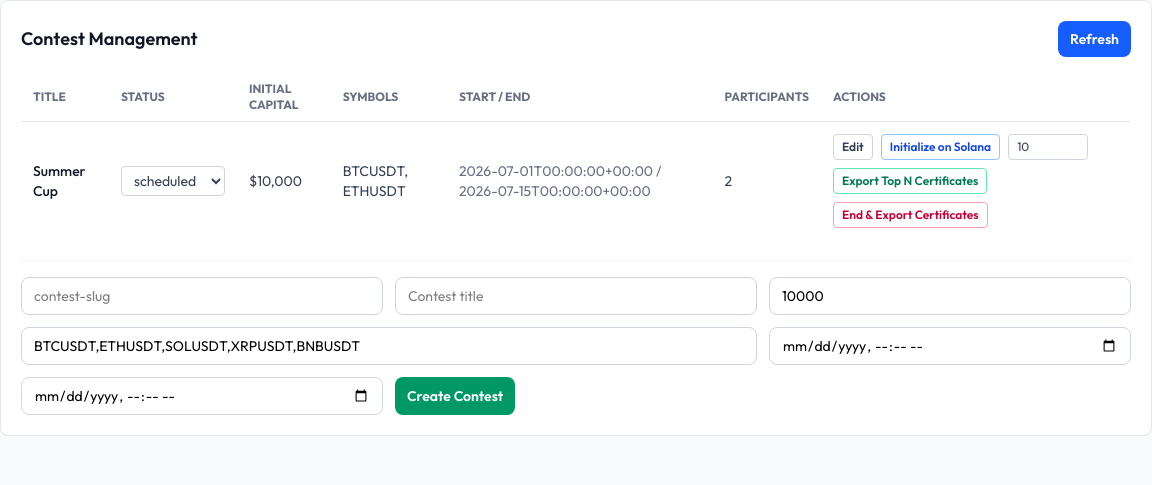
Test case: TabContests › requires an active signer before initializing a contest on Solana
The image size is (1152, 485).
Click the button with test id "initialize-onchain-summer-cup".
click(940, 147)  # box x1=881 y1=134 x2=1000 y2=160
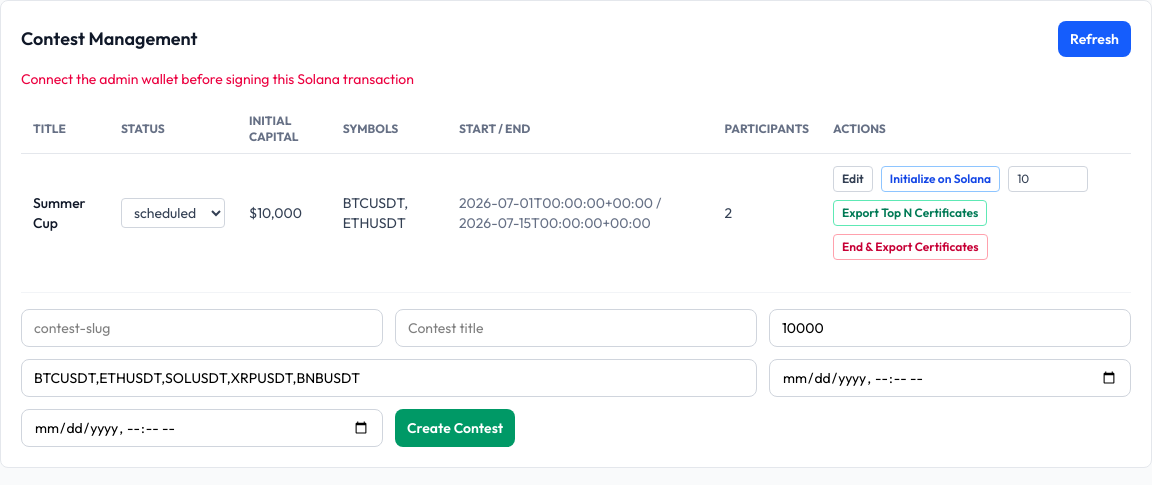
Expected: the text "Connect the admin wallet before signing this Solana transaction" is shown, x1=21 y1=70 x2=414 y2=88
